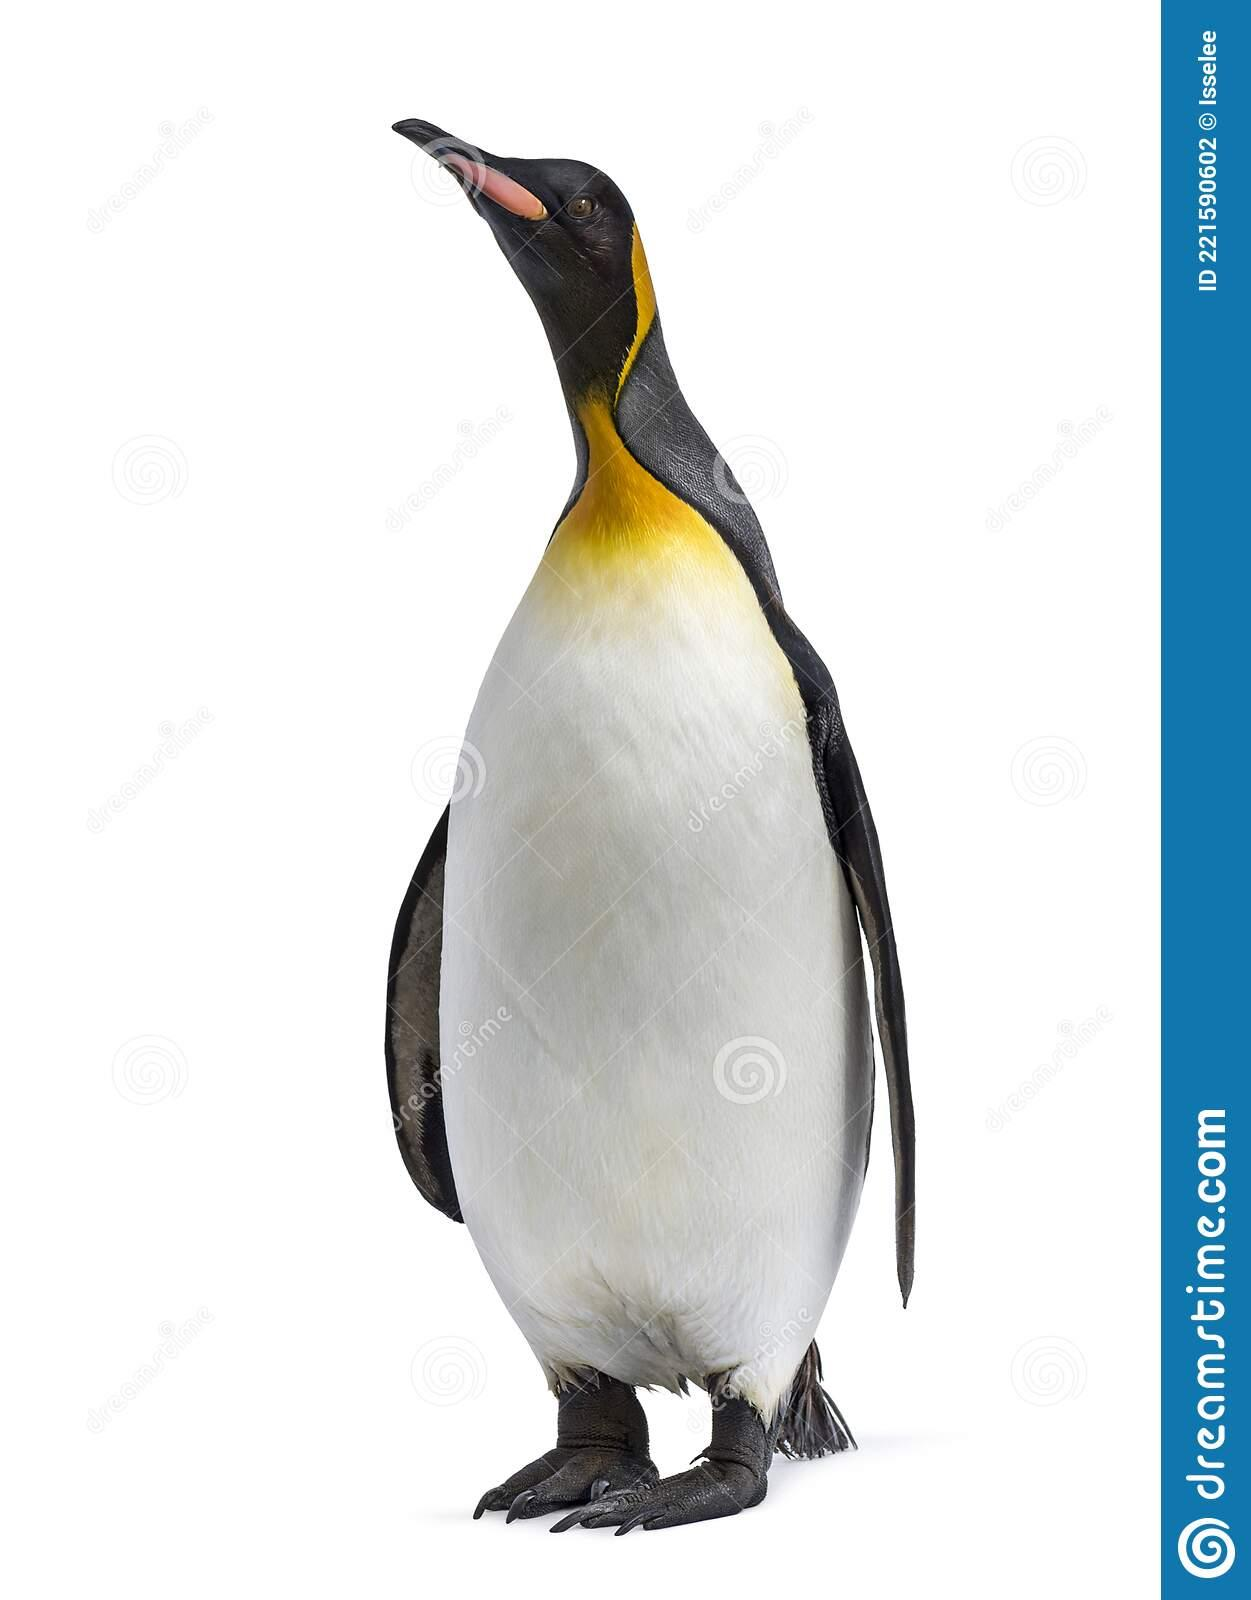king: (314, 81, 970, 1543)
